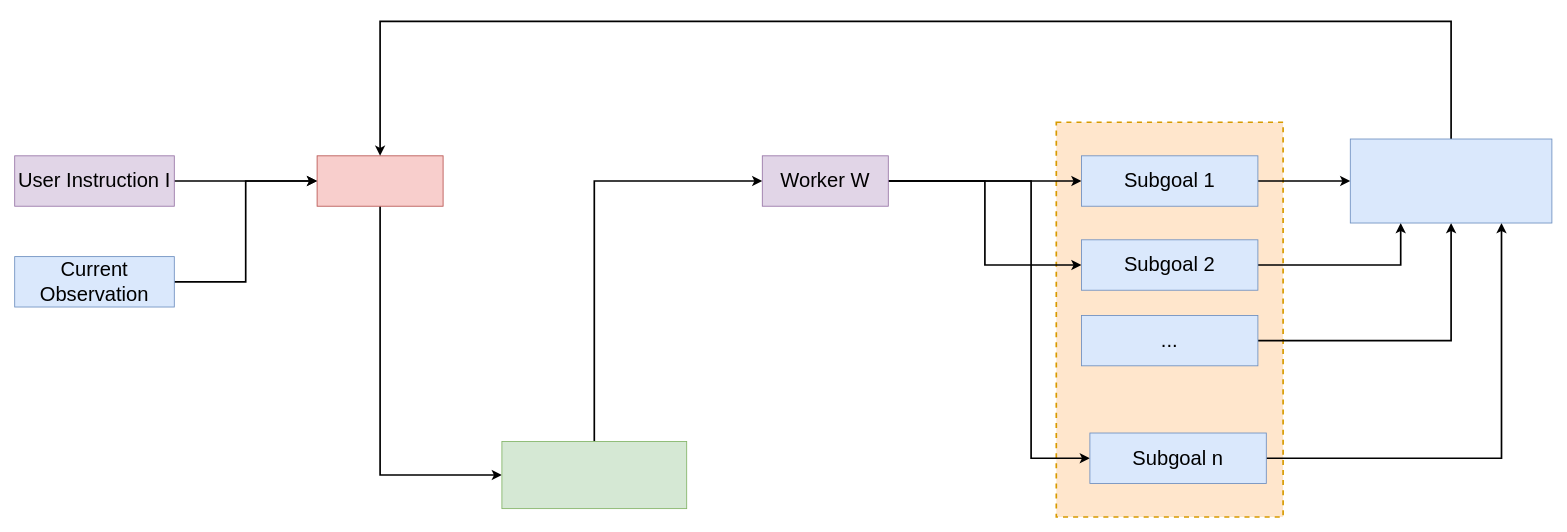
Image size: 1567x532. Some labels were removed from this diagram. The shapes that lost their labels are listed below. From the top down, each one's box as (x1, y1, x2, y2) in pixels, then its label:
(316, 155, 443, 206): Manager M
(1349, 138, 1552, 223): Action Histsory + Final Obs
(501, 441, 687, 509): Subgoals: g 0 ', g 1 ', g 2 ' ... g n '
